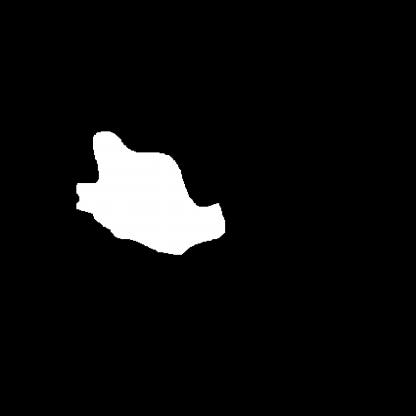malignant: (66, 120, 246, 262)
